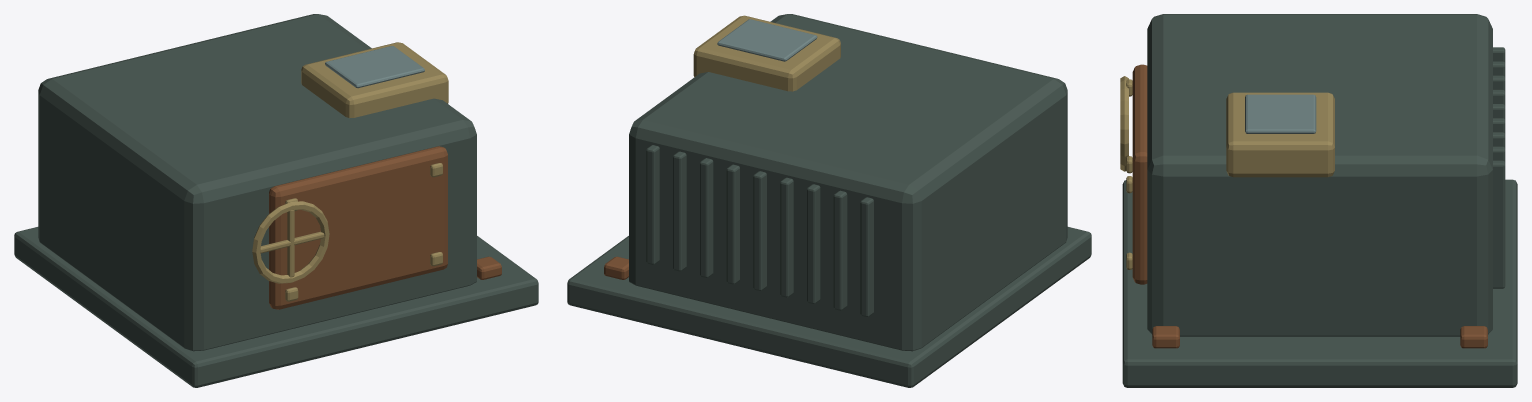
File: mill-kit.glb
3 renders of one model, left to right at view 1: azimuth 30°, elevation 25°; view 2: azimuth 150°, elevation 25°; view 3: azimuth 270°, elevation 25°, orthographic. The views are drawn at different scales.
Visible parts, largest first — view 1: MillMachine_Aged painted iron, MillMachine_Oxidised fasteners, MillMachine_Service brass, MillMachine_Gauge glass; view 2: MillMachine_Aged painted iron, MillMachine_Service brass, MillMachine_Gauge glass, MillMachine_Oxidised fasteners; view 3: MillMachine_Aged painted iron, MillMachine_Service brass, MillMachine_Oxidised fasteners, MillMachine_Gauge glass.
Boxes of the visible parts, x1,y1,x2,y2 form: MillMachine_Aged painted iron: (14,14,538,387); MillMachine_Oxidised fasteners: (269,146,501,309); MillMachine_Service brass: (252,42,448,301); MillMachine_Gauge glass: (325,46,424,88); MillMachine_Aged painted iron: (567,14,1091,387); MillMachine_Service brass: (693,15,840,91); MillMachine_Gauge glass: (717,19,817,61); MillMachine_Oxidised fasteners: (604,256,628,279); MillMachine_Aged painted iron: (1122,14,1517,387); MillMachine_Service brass: (1120,76,1334,269); MillMachine_Oxidised fasteners: (1132,64,1487,348); MillMachine_Gauge glass: (1245,94,1316,133).
Size of the model in its own units: 2.2 by 1.28 by 2.01.
